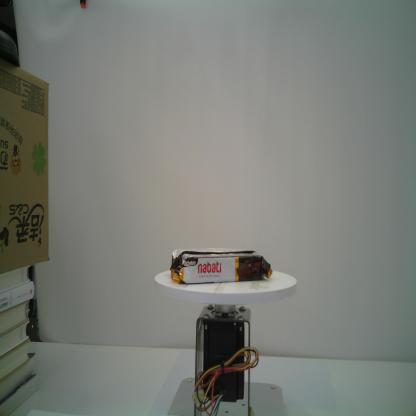Dessert: (170, 247, 273, 285)
